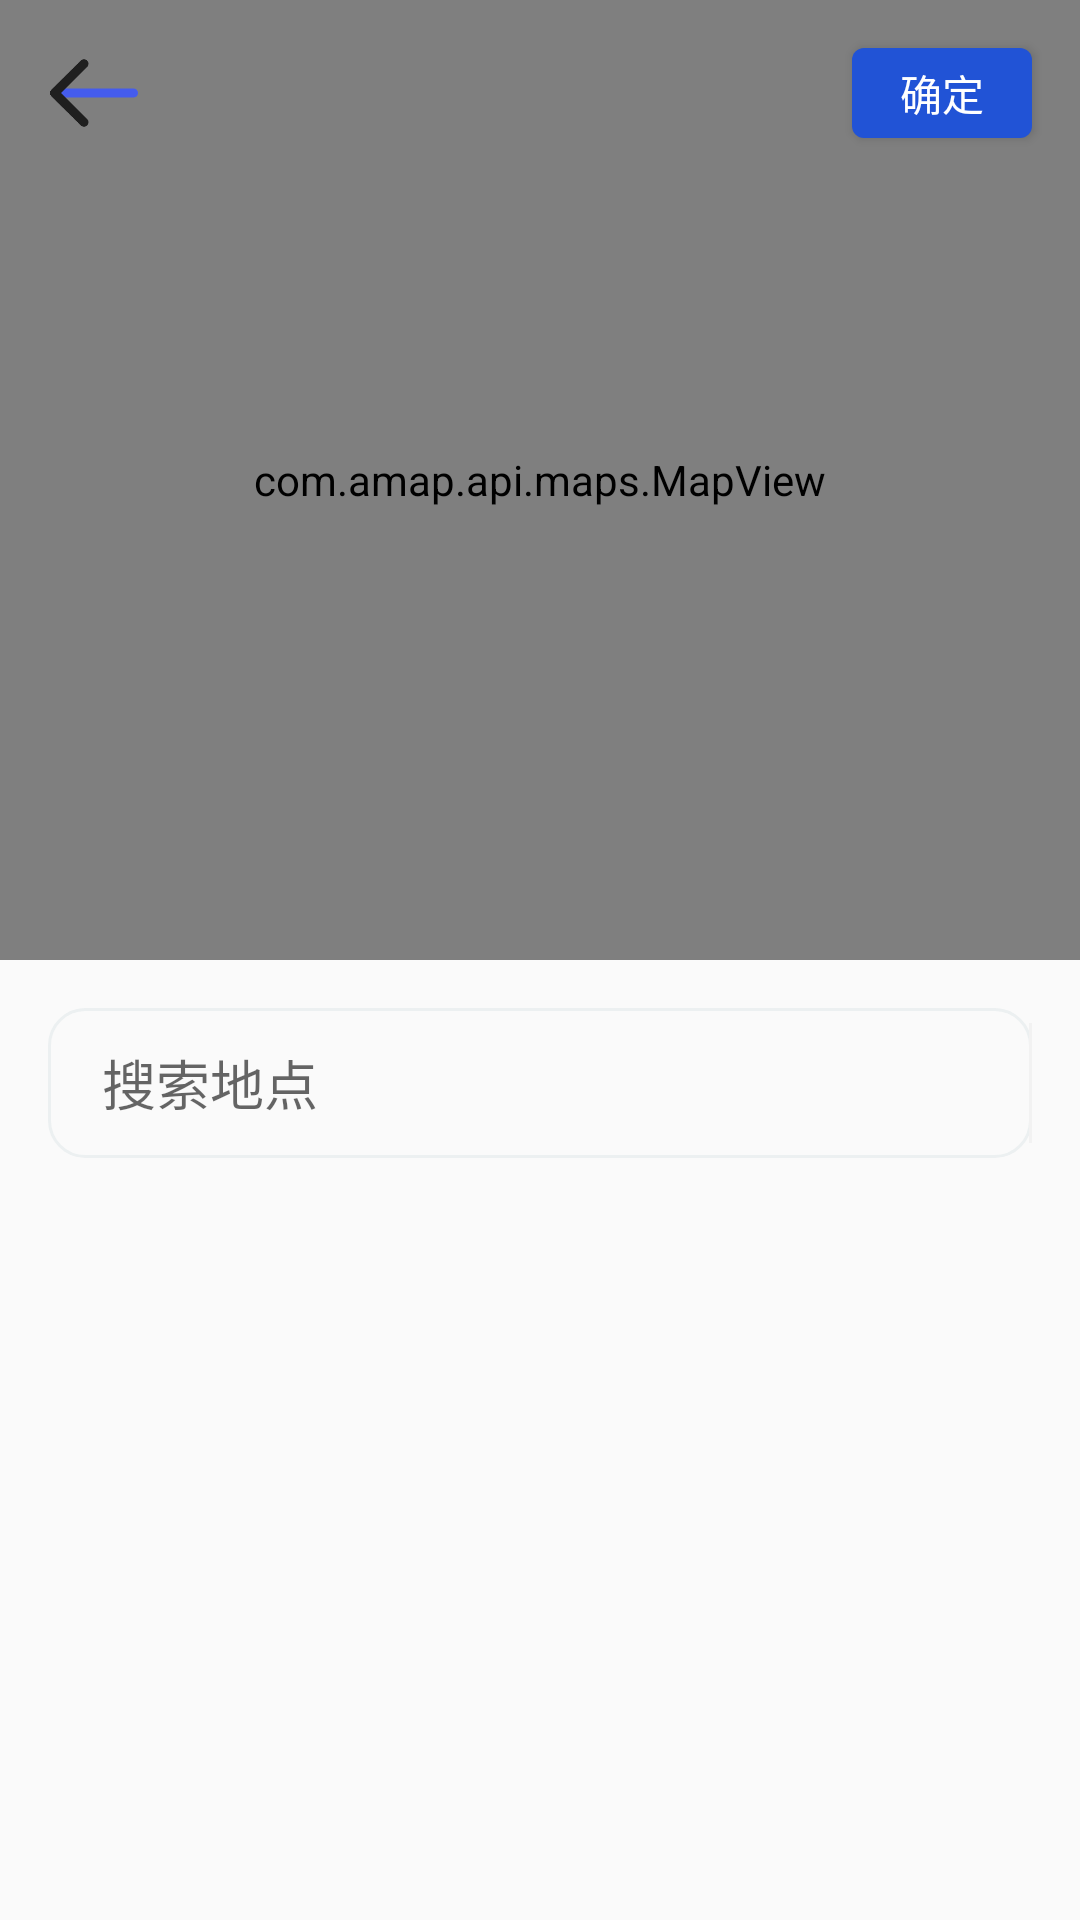

Icon bounding boxes for this 1080w x 1920h phone screenshot, format (x1, y1, x2, y2):
return: (50, 59, 138, 127)
